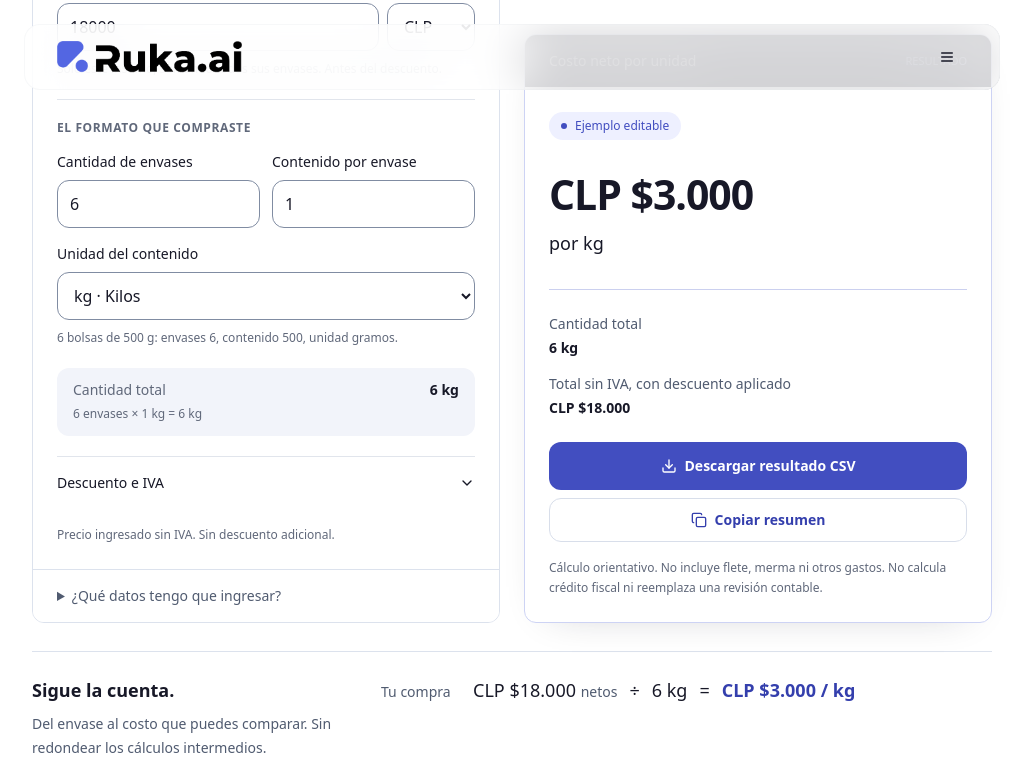
Scenario: final tool workspace › recovers gracefully from blocked clipboard access
(page scrolled)
Click the button "Copiar resumen": x=758, y=520 549,498 -> 967,542
(page scrolled)
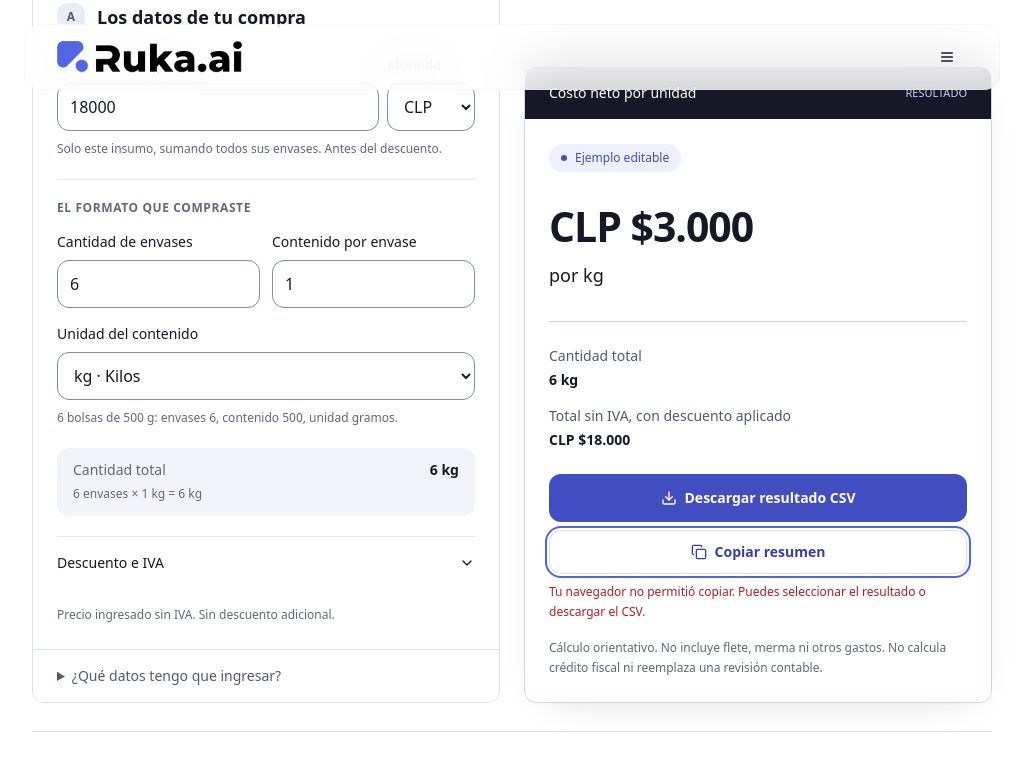
Check: the element named "Resultado del cálculo" shows "3.000", box 549,198 -> 753,254
Check: the text "Tu navegador no permitió copiar" is shown, box 549,583 -> 926,620
